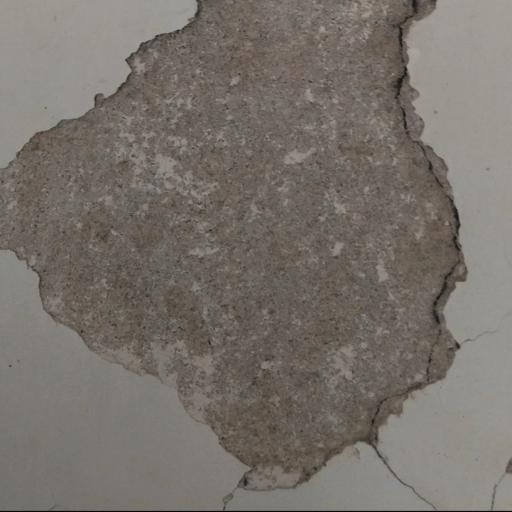spalling: (6, 0, 505, 480)
